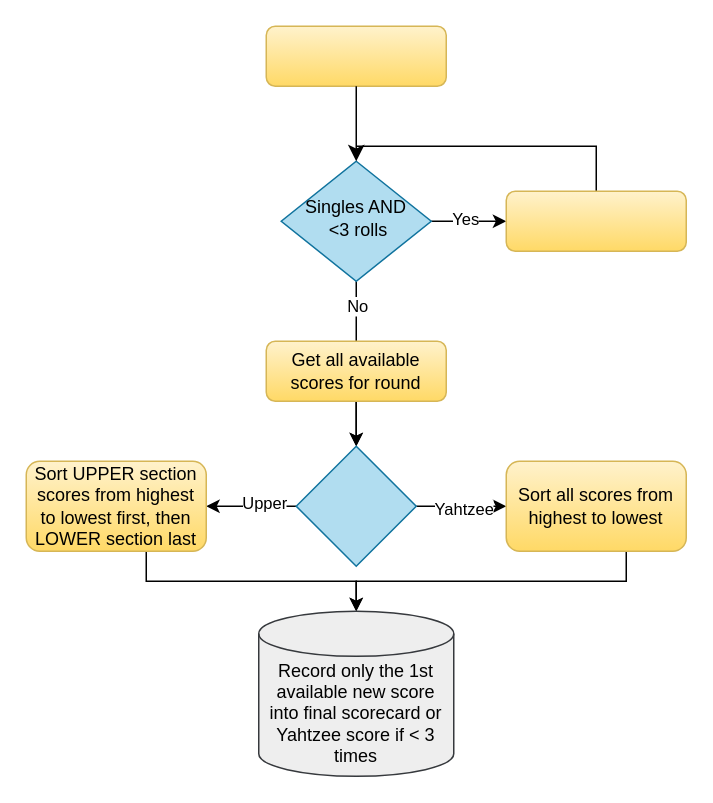
The diagram is 713 pixels wide and 803 high, and some of its shapes have lost their labels. Each missing label, with the centre of its shape:
"Re-roll singles only up to 2x" belongs at point (595, 220).
"Roll Dice" belongs at point (355, 55).
"Strategy" belongs at point (355, 505).
